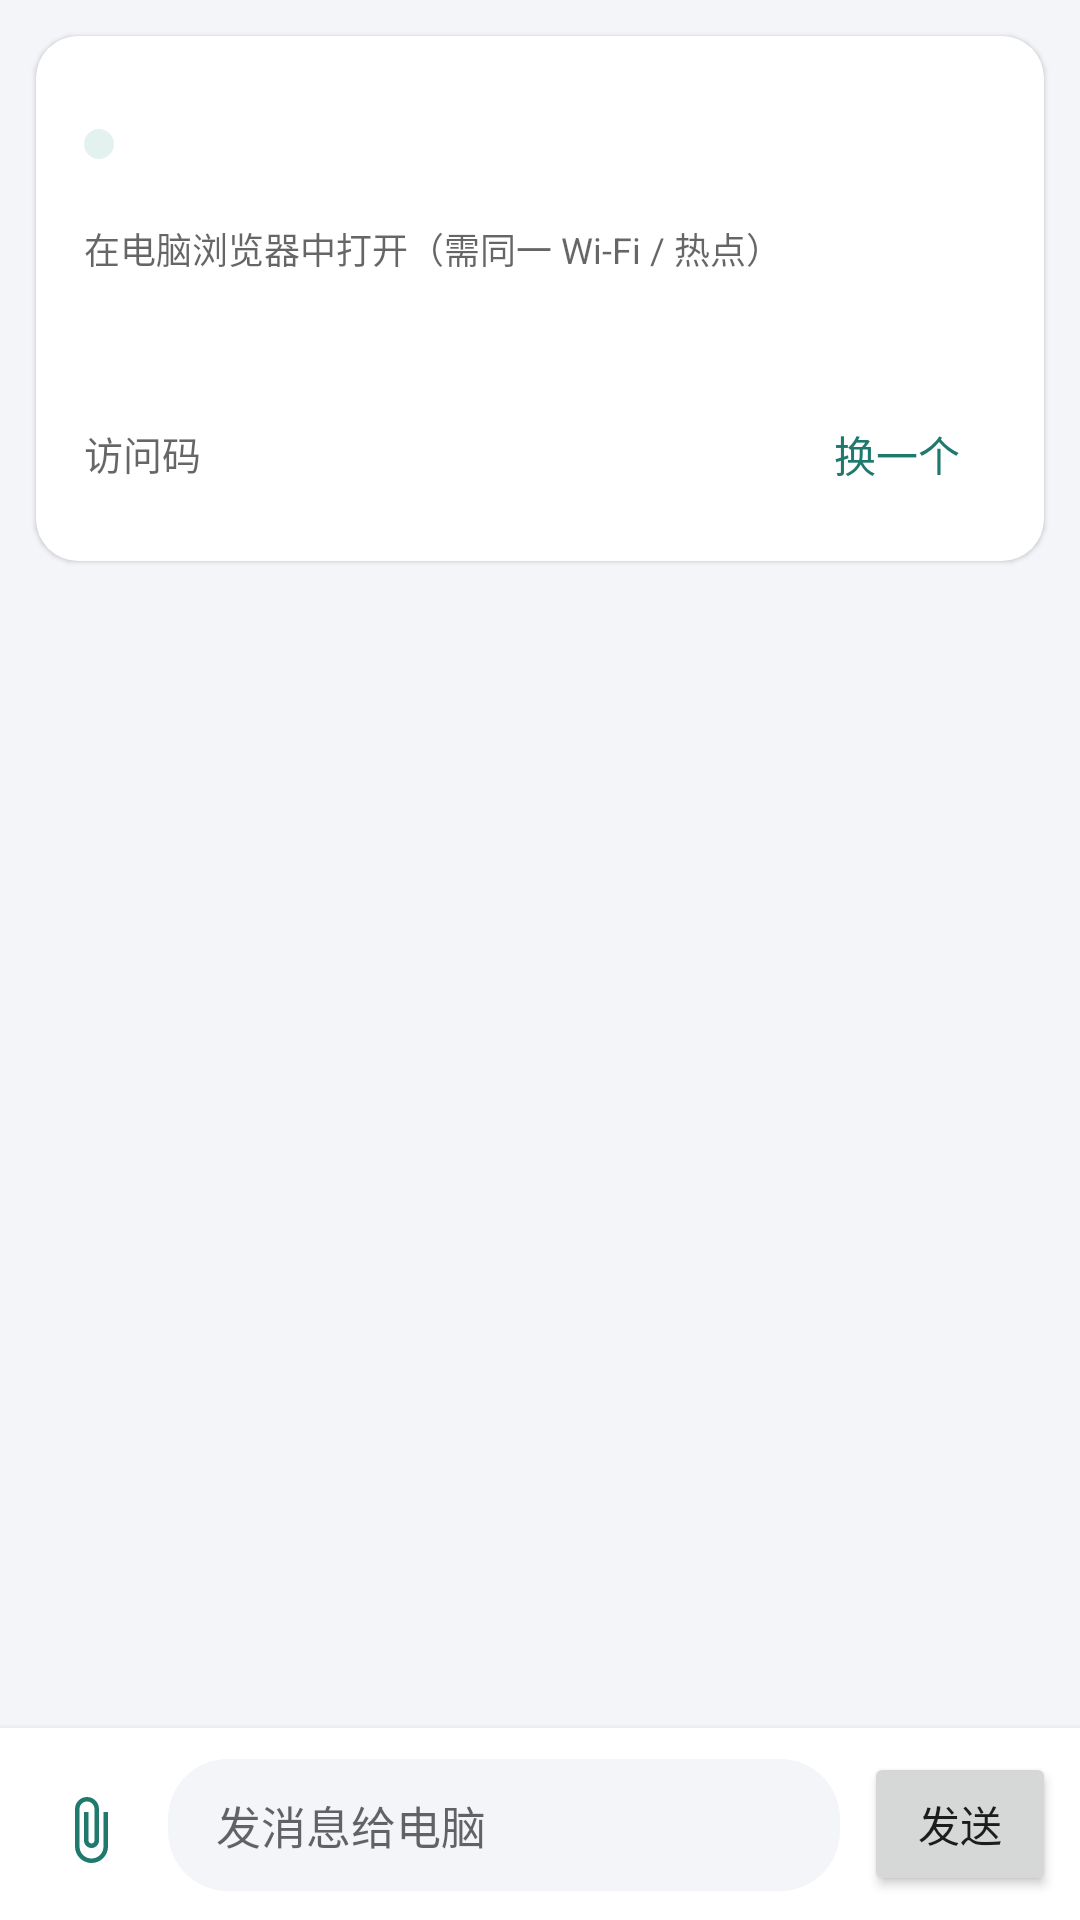

Where to tap for icons on this 1080×1920 app screen, as point (x, y):
发送文件: point (91, 1830)
